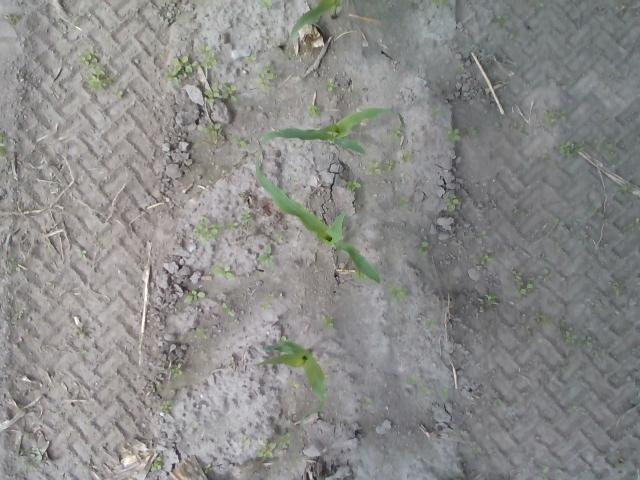Maize: (254, 160, 382, 284), (231, 103, 396, 158), (255, 338, 328, 426), (282, 0, 342, 44)
Weeds: (166, 54, 193, 82), (196, 121, 227, 145), (204, 82, 238, 103), (80, 70, 111, 92), (193, 215, 220, 240), (198, 43, 217, 68), (513, 274, 534, 294), (542, 110, 568, 126), (564, 331, 592, 345), (368, 160, 396, 174), (183, 287, 206, 304), (257, 244, 274, 267), (560, 140, 578, 160), (80, 48, 99, 65), (213, 266, 236, 280), (256, 72, 274, 88), (430, 104, 448, 118), (446, 126, 461, 142), (391, 285, 408, 299), (480, 255, 498, 268), (240, 208, 254, 224), (257, 446, 275, 458), (417, 240, 429, 257), (0, 130, 7, 158), (485, 291, 499, 305), (308, 102, 323, 115), (150, 456, 162, 471), (445, 196, 460, 208), (191, 328, 208, 338), (222, 302, 235, 315), (260, 300, 274, 312), (232, 137, 248, 147), (477, 230, 490, 242), (170, 366, 184, 377), (278, 433, 292, 444), (258, 0, 274, 9), (347, 180, 360, 191), (227, 222, 240, 232), (159, 403, 172, 413), (326, 79, 336, 91), (390, 124, 400, 136), (323, 318, 335, 328), (245, 54, 258, 63), (400, 197, 409, 208), (408, 374, 417, 384), (442, 388, 448, 400)
